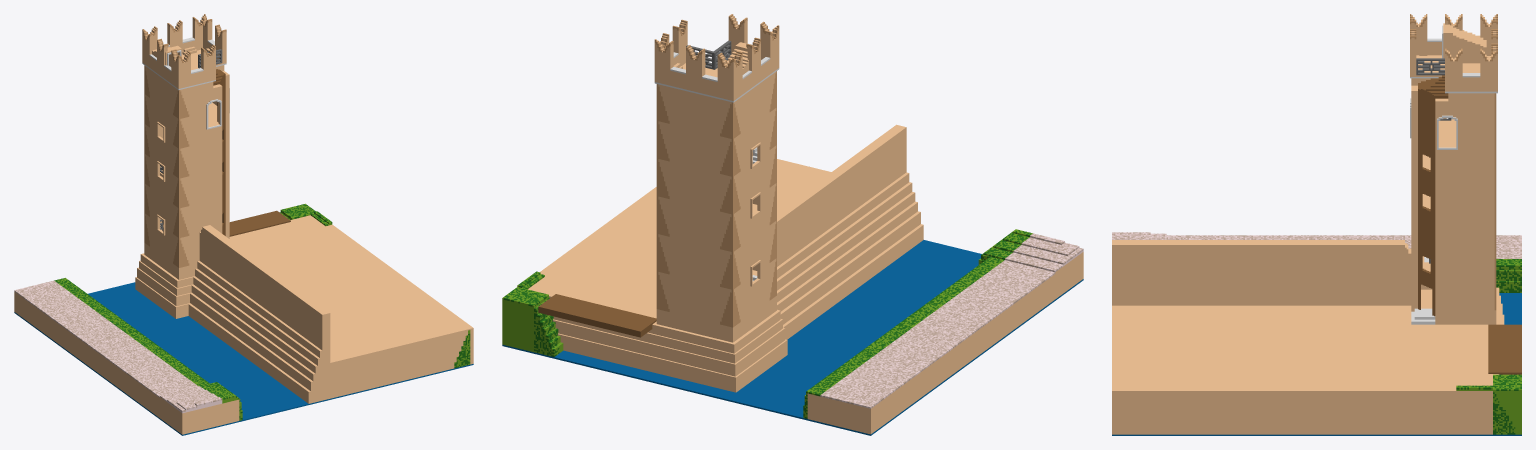
File: castelloVillafranca-46.obj
3 views of the same model, side by side, from view 1: azimuth 30°, elevation 25°; view 2: azimuth 150°, elevation 25°; view 3: azimuth 270°, elevation 25° (orthographic). The views are drawn at different scales.
Size of the model in its own units: 25.6 by 22 by 25.6.
1 material, 1 textured.
